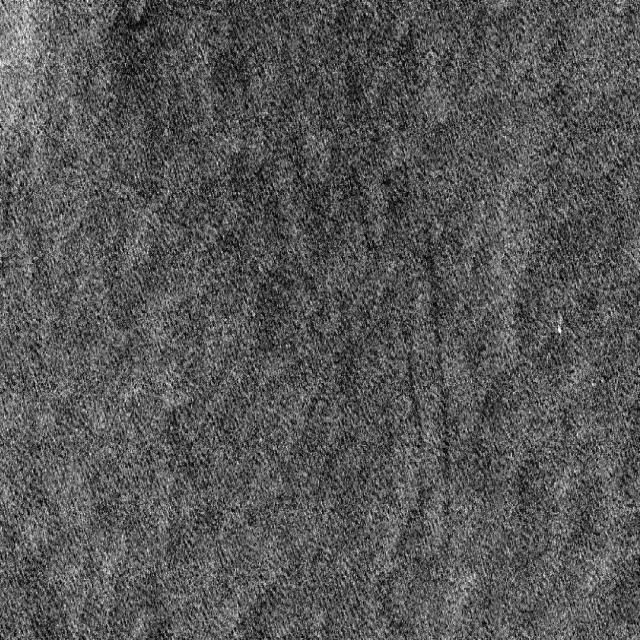look-alike: (405, 79, 477, 542), (351, 180, 427, 545)
